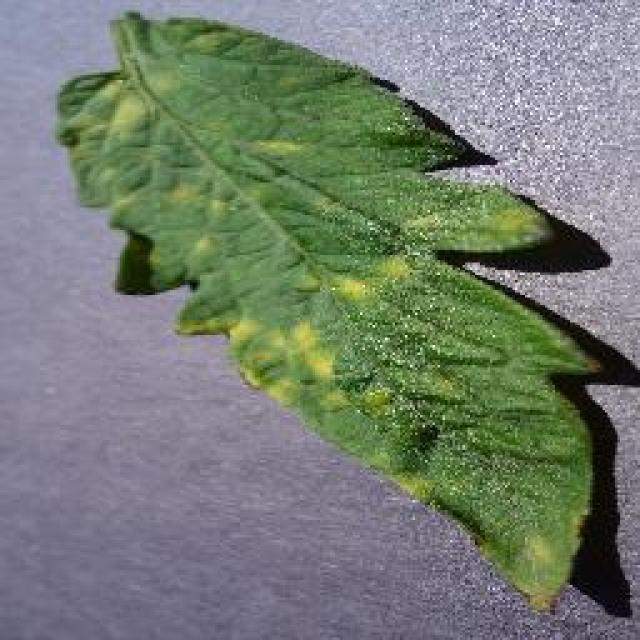Tomato___Leaf_Mold: (55, 12, 609, 612)
